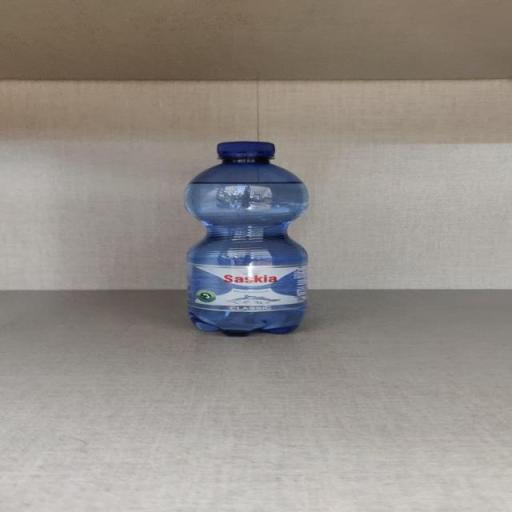plastic: (180, 139, 314, 338)
